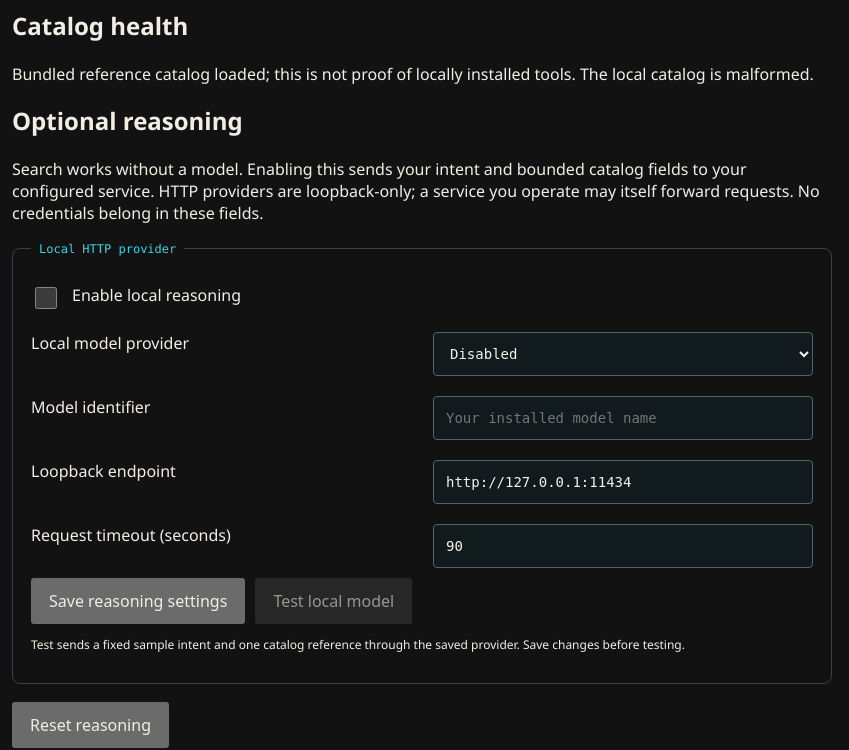
Scenario: NativeSettingsPanel › shows catalog fallback and saves then verifies local settings
Expected: the text "local catalog is malformed" is shown, [12,63,814,85]
Select "Ollama" in the dropdown labelled "Local model provider" at (623, 354), box [433,332,813,376]
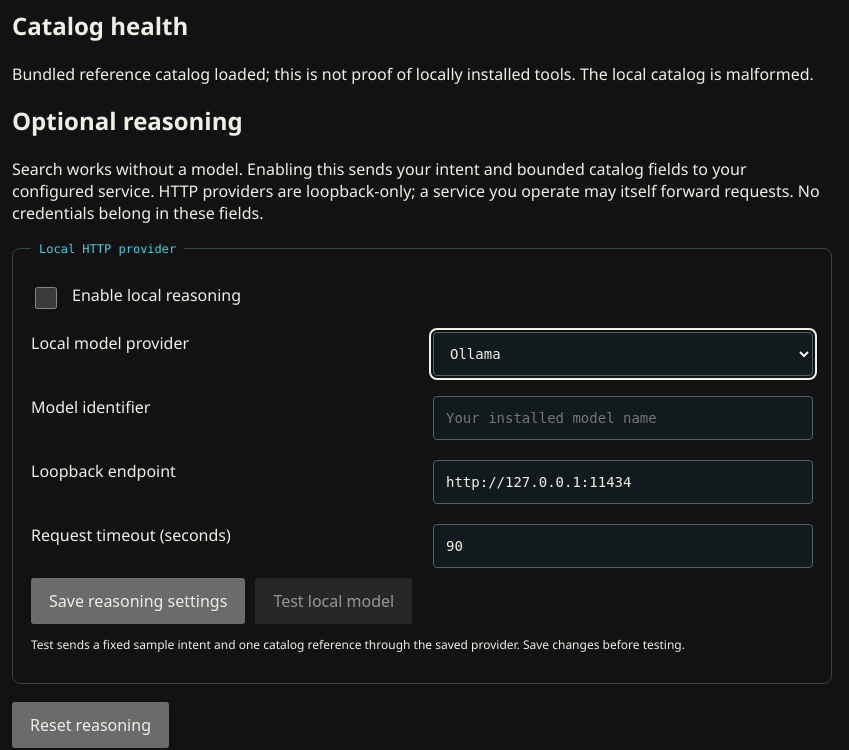
Type "local-model" into the field labelled "Model identifier" at (623, 418), box [433,396,813,440]
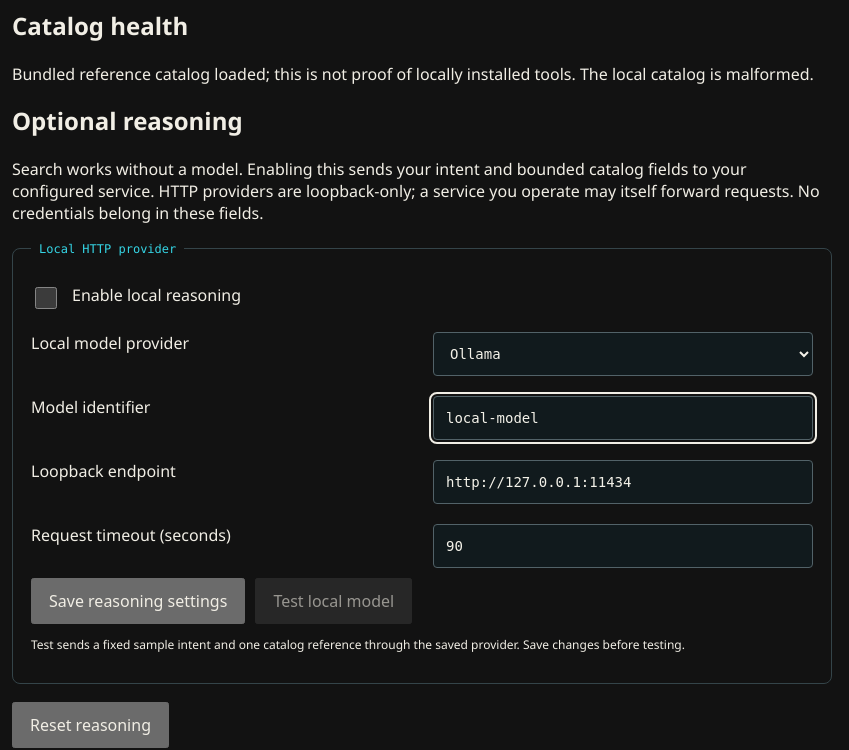
Click the checkbox labelled "Enable local reasoning" at (46, 298), box [35,287,57,309]
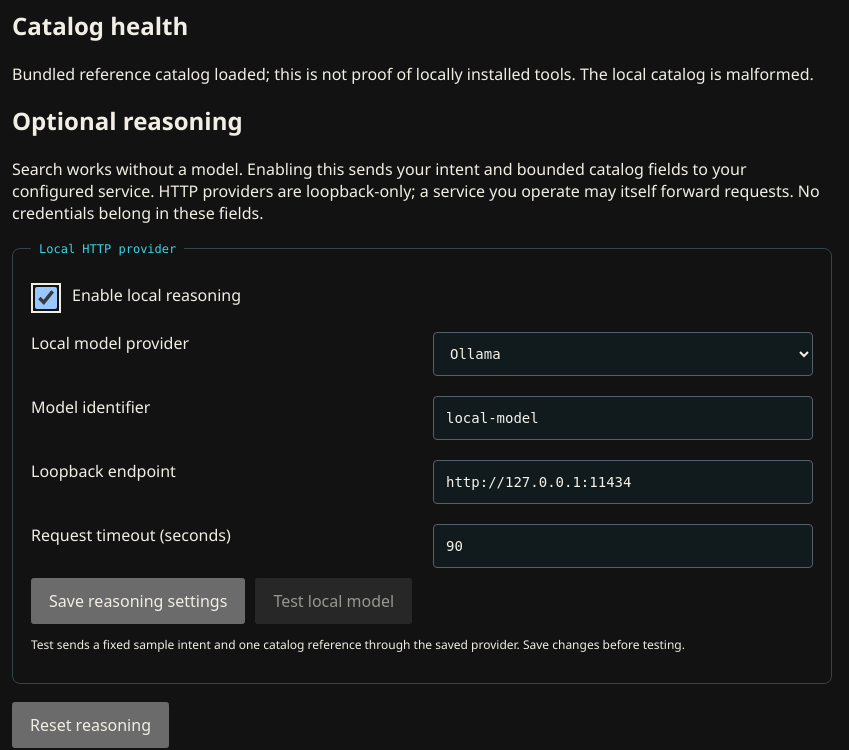
Click the button "Save reasoning settings" at (138, 601), box [31,578,245,624]
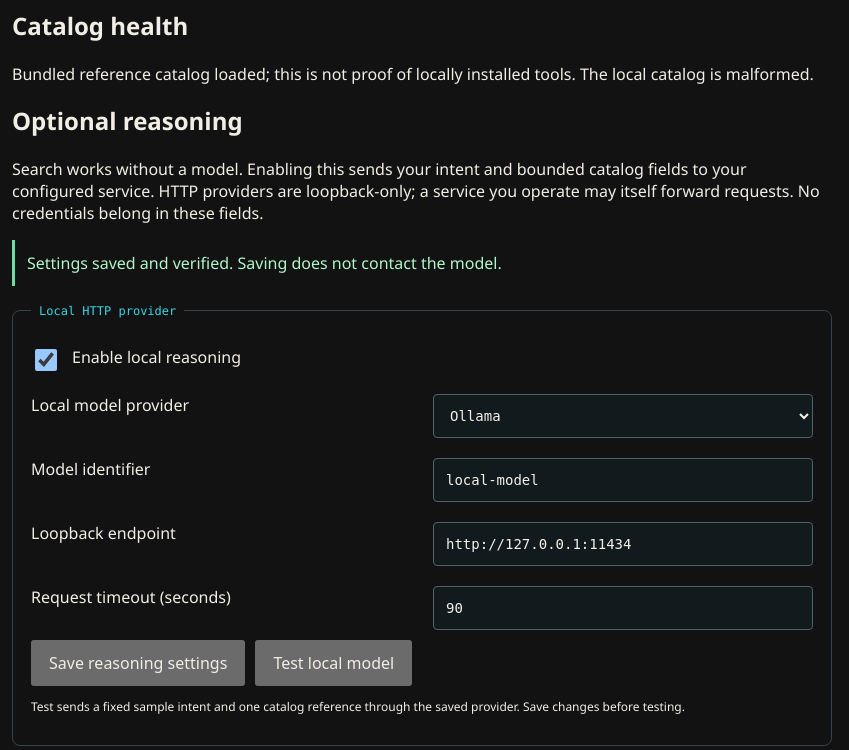
Expected: the text "Settings saved and verified. Saving does not contact the model." is shown, [12,240,832,286]
Click the button "Test local model" at (334, 663), box [255,640,412,686]
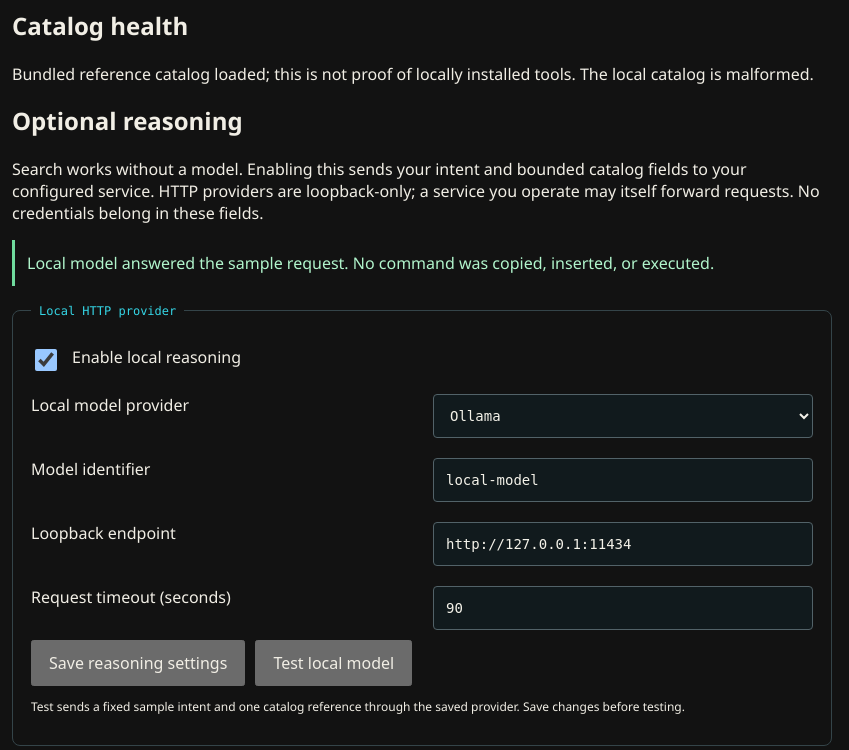
Expected: the text "model answered the sample request" is shown, [27,252,714,274]
